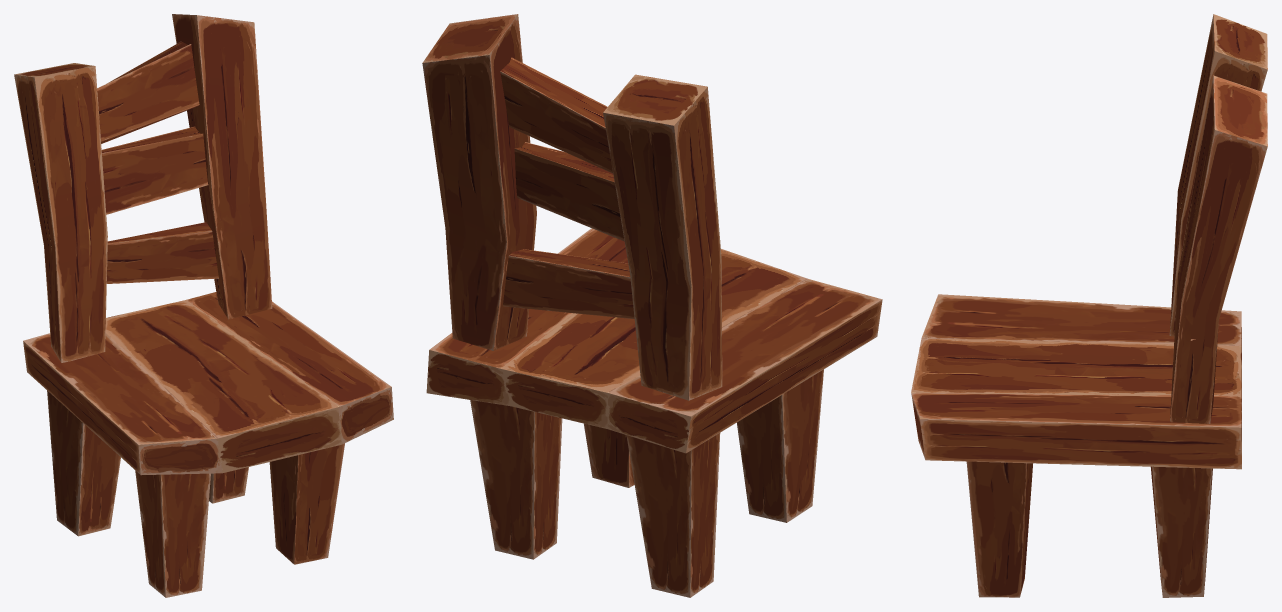
Rendered from silla02.glb.
3 views of the same model, side by side, from view 1: azimuth 30°, elevation 25°; view 2: azimuth 150°, elevation 25°; view 3: azimuth 270°, elevation 25° (orthographic). The views are drawn at different scales.
Parts seen in each view (by area): view 1: SM_PROP_chair_03; view 2: SM_PROP_chair_03; view 3: SM_PROP_chair_03.
Boxes of the visible parts, bbox=[...] form: SM_PROP_chair_03: bbox=[14, 14, 393, 597]; SM_PROP_chair_03: bbox=[422, 14, 882, 597]; SM_PROP_chair_03: bbox=[911, 14, 1267, 597].
Size of the model in its own units: 0.5405 by 0.9678 by 0.614.
Materials: 1 (1 with a texture image).
